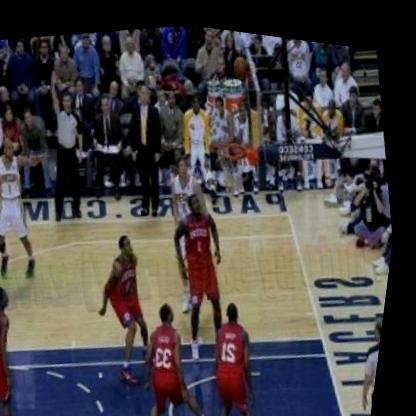basketball: (229, 45, 251, 72)
